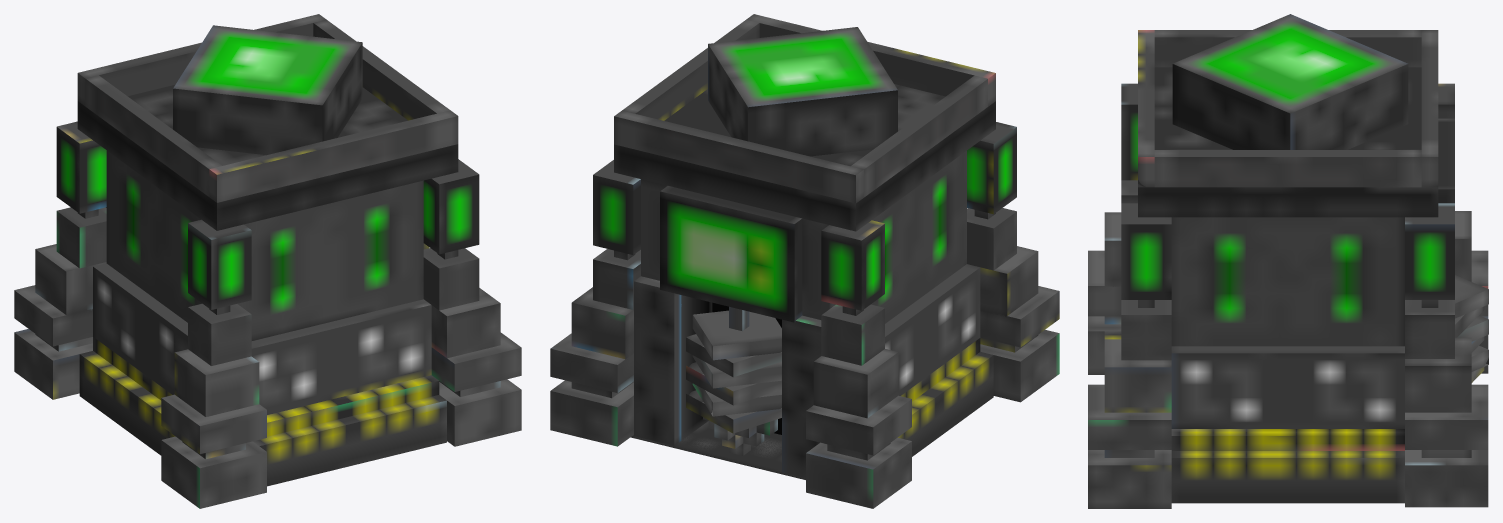
Rendered from drill_2.obj.
The picture shows the model from 3 angles, left to right: view 1: azimuth 30°, elevation 25°; view 2: azimuth 150°, elevation 25°; view 3: azimuth 270°, elevation 25°; orthographic projection. The views are drawn at different scales.
Visible parts, largest first — view 1: cube_65, cube_71, cube_66, cube_47, cube_63, cube_22, cube_68, cube_46, cube_2, cube_69, cube_57, cube_17 (+17 smaller); view 2: cube_71, cube_60, cube_66, cube_63, cube_67, cube_41, cube_46, cube_1, cube_69, cube_56, cube_40, cube_17 (+26 smaller); view 3: cube_64, cube_71, cube_45, cube_66, cube_18, cube_70, cube_39, cube_3, cube_4, cube_59, cube_58, cube_14 (+18 smaller).
Boxes of the visible parts, left/top/right/bottom form: cube_65: left=237, top=180, right=423, bottom=340; cube_71: left=173, top=25, right=362, bottom=155; cube_66: left=77, top=85, right=458, bottom=230; cube_47: left=251, top=299, right=431, bottom=414; cube_63: left=106, top=150, right=201, bottom=322; cube_22: left=253, top=395, right=446, bottom=486; cube_68: left=209, top=110, right=458, bottom=202; cube_46: left=93, top=263, right=187, bottom=394; cube_2: left=161, top=436, right=266, bottom=508; cube_69: left=85, top=75, right=222, bottom=196; cube_57: left=188, top=219, right=251, bottom=309; cube_17: left=79, top=351, right=175, bottom=455; cube_71: left=708, top=27, right=897, bottom=156; cube_60: left=660, top=186, right=802, bottom=322; cube_66: left=614, top=84, right=995, bottom=231; cube_63: left=871, top=151, right=966, bottom=323; cube_67: left=614, top=110, right=863, bottom=203; cube_41: left=634, top=276, right=681, bottom=445; cube_46: left=885, top=264, right=980, bottom=395; cube_1: left=806, top=437, right=911, bottom=508; cube_69: left=851, top=75, right=987, bottom=197; cube_56: left=821, top=220, right=884, bottom=310; cube_40: left=782, top=315, right=821, bottom=477; cube_17: left=898, top=352, right=993, bottom=456; cube_64: left=1171, top=217, right=1404, bottom=346; cube_71: left=1172, top=14, right=1408, bottom=149; cube_45: left=1171, top=346, right=1404, bottom=428; cube_66: left=1138, top=67, right=1438, bottom=217; cube_18: left=1171, top=451, right=1404, bottom=503; cube_70: left=1154, top=150, right=1421, bottom=187; cube_39: left=1171, top=429, right=1404, bottom=450; cube_3: left=1088, top=450, right=1171, bottom=508; cube_4: left=1405, top=450, right=1488, bottom=507; cube_59: left=1121, top=203, right=1171, bottom=299; cube_58: left=1405, top=203, right=1454, bottom=299; cube_14: left=1405, top=337, right=1471, bottom=412.
Bounding box in the file's own units: 1.5 × 1.5 × 1.5.
